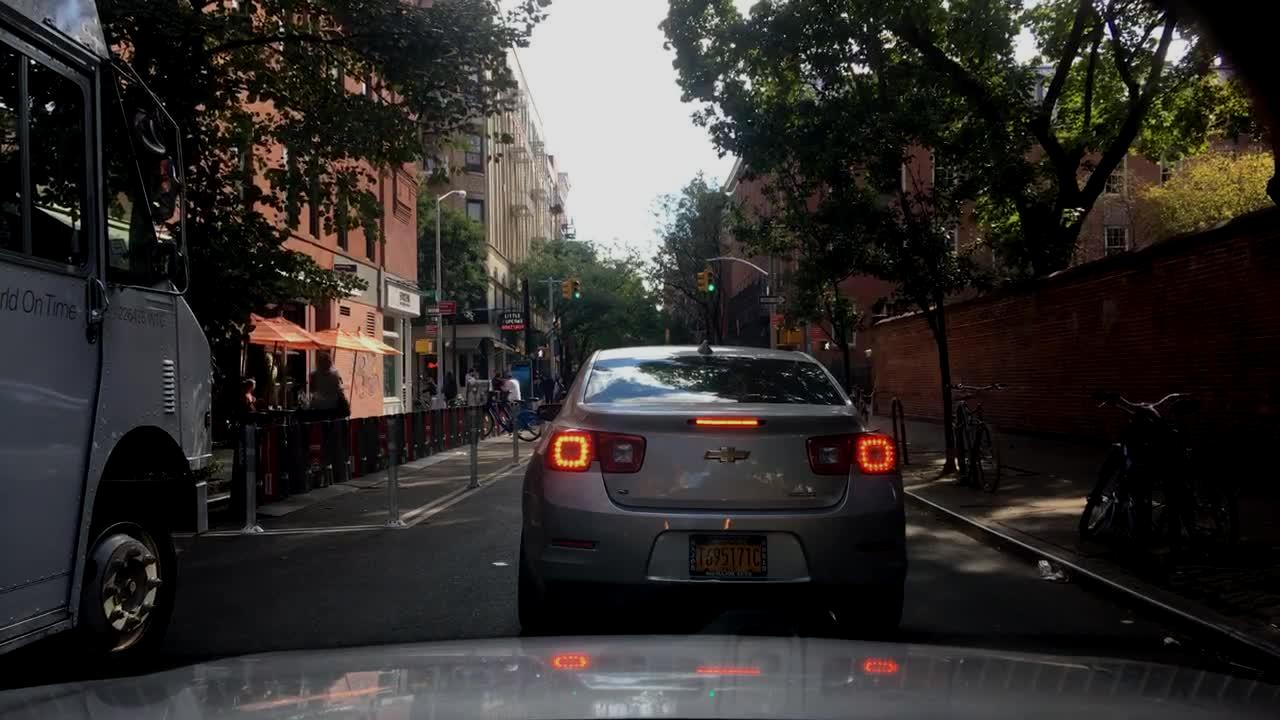chevrolet: (702, 440, 754, 470)
